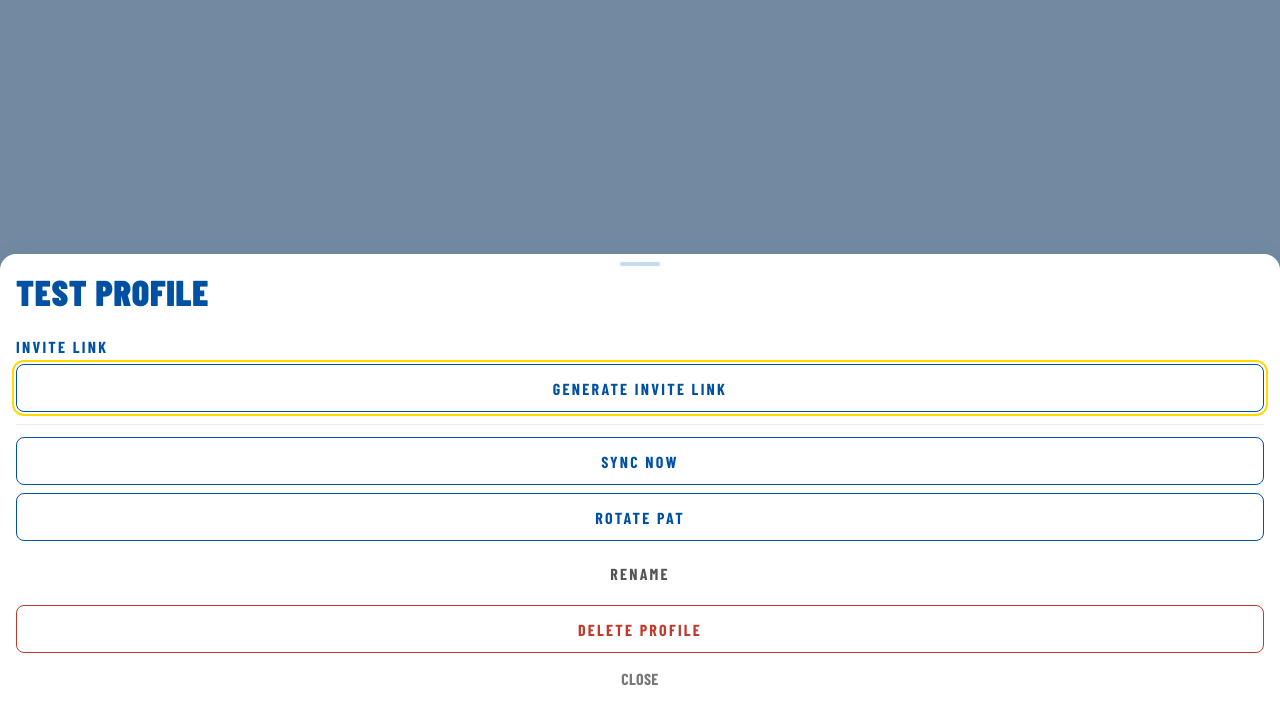
Scenario: ProfileDrawer poll-until-terminal › Test 1: drawer auto-transitions to CONNECTED through a transient null tick
Step 1. Click the button "SYNC NOW" → click(640, 461), box [16,437,1264,485]
Wait 4700 ms
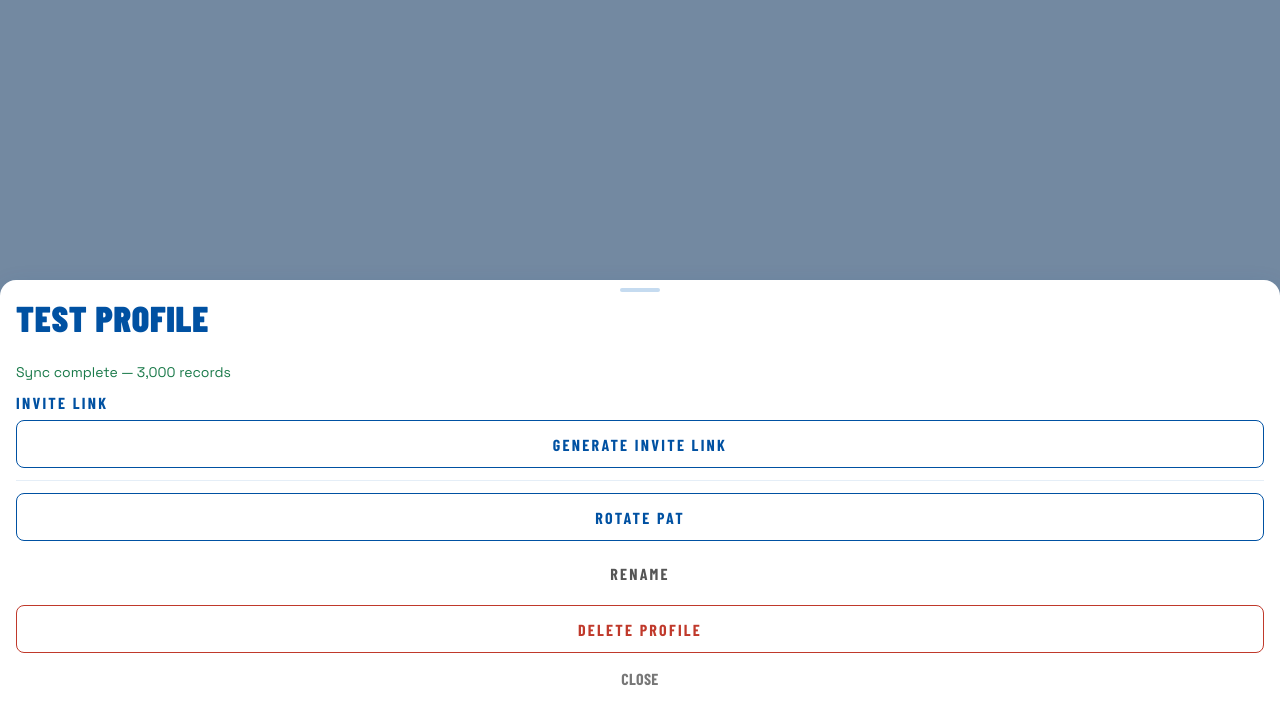
Check: the text "Sync complete — 3,000 records" is shown, box [16,363,231,381]
